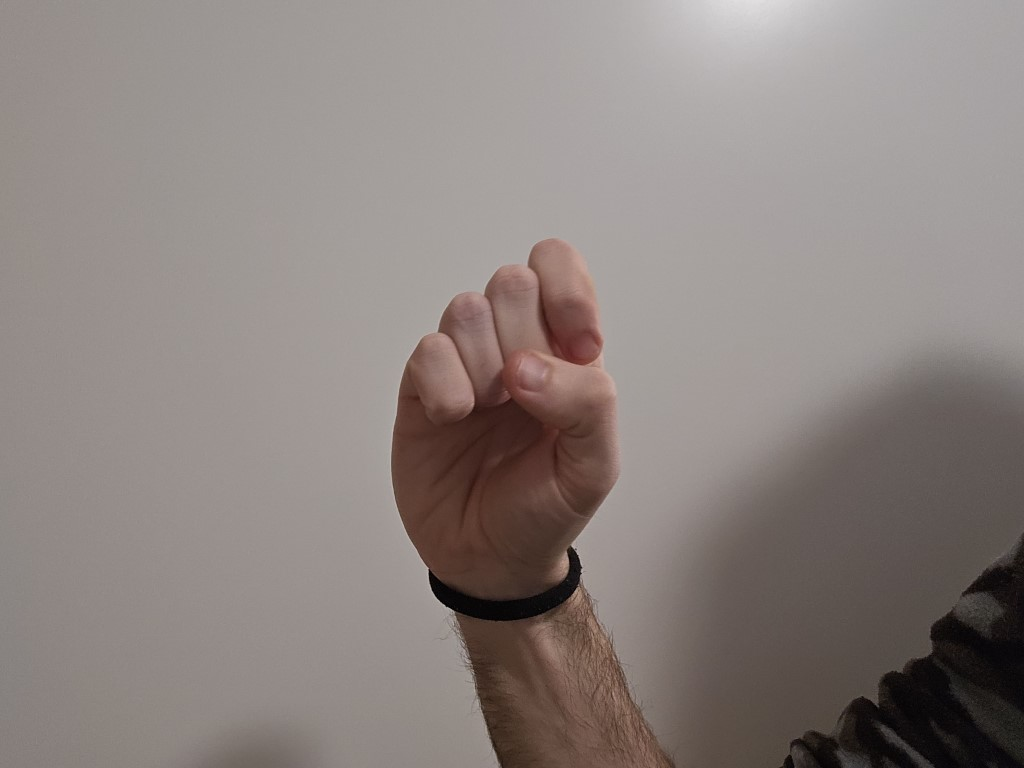s: (358, 228, 654, 583)
